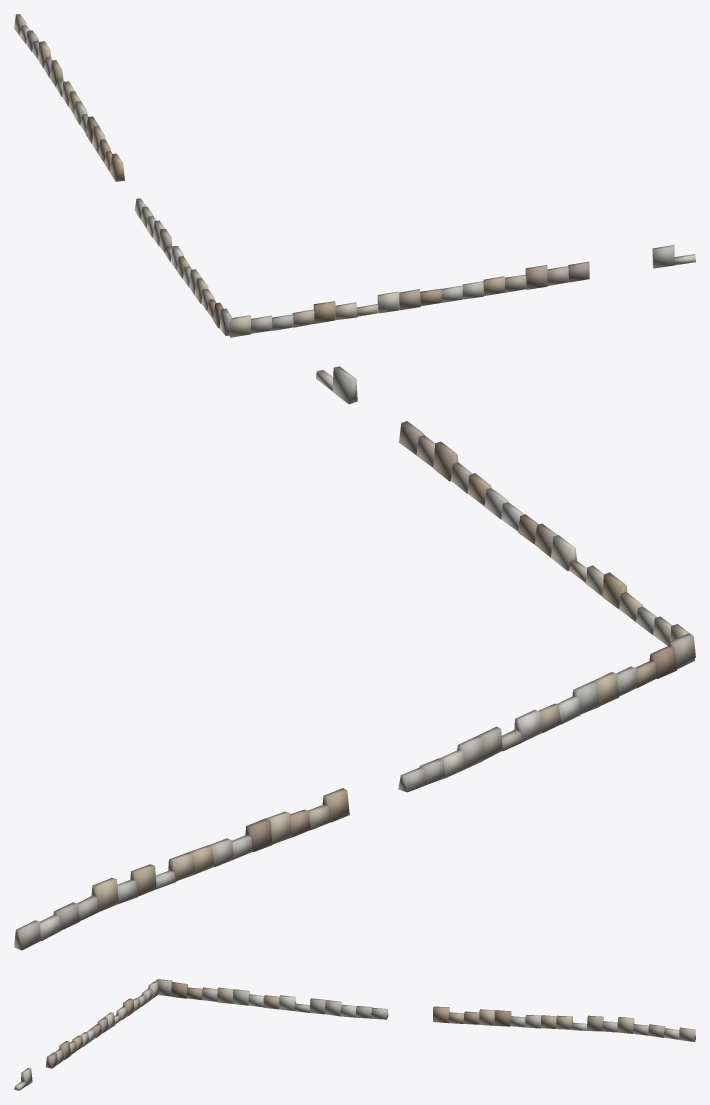
The model's file is farm_-57_-42_far.glb.
3 renders of one model, top to bottom at view 1: azimuth 30°, elevation 25°; view 2: azimuth 150°, elevation 25°; view 3: azimuth 270°, elevation 25°, orthographic. The views are drawn at different scales.
Visible parts, largest first — view 1: geometry_0; view 2: geometry_0; view 3: geometry_0.
Boxes of the visible parts, <box> form: geometry_0: <box>14,14,695,337</box>; geometry_0: <box>14,366,695,950</box>; geometry_0: <box>14,979,695,1090</box>.
Bounding box in the file's own units: 32.22 × 5.9 × 67.25.
